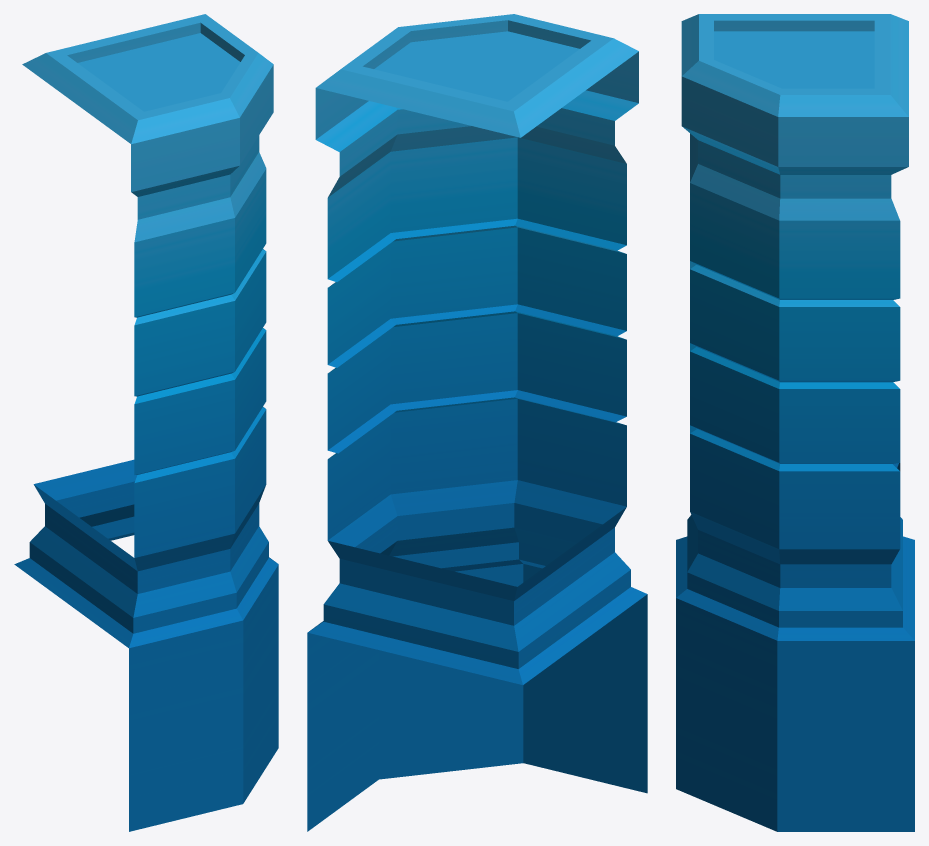
The model's file is Pillar 04.fbx.
3 views of the same model, side by side, from view 1: azimuth 30°, elevation 25°; view 2: azimuth 150°, elevation 25°; view 3: azimuth 270°, elevation 25° (orthographic). The views are drawn at different scales.
Parts seen in each view (by area): view 1: Pillar 04.001; view 2: Pillar 04.001; view 3: Pillar 04.001.
Boxes of the visible parts, box(x1,y1,x2,y2) form: Pillar 04.001: box(14, 14, 278, 831); Pillar 04.001: box(307, 14, 647, 831); Pillar 04.001: box(676, 14, 914, 831).
Size of the model in its own units: 173 by 581 by 173.
